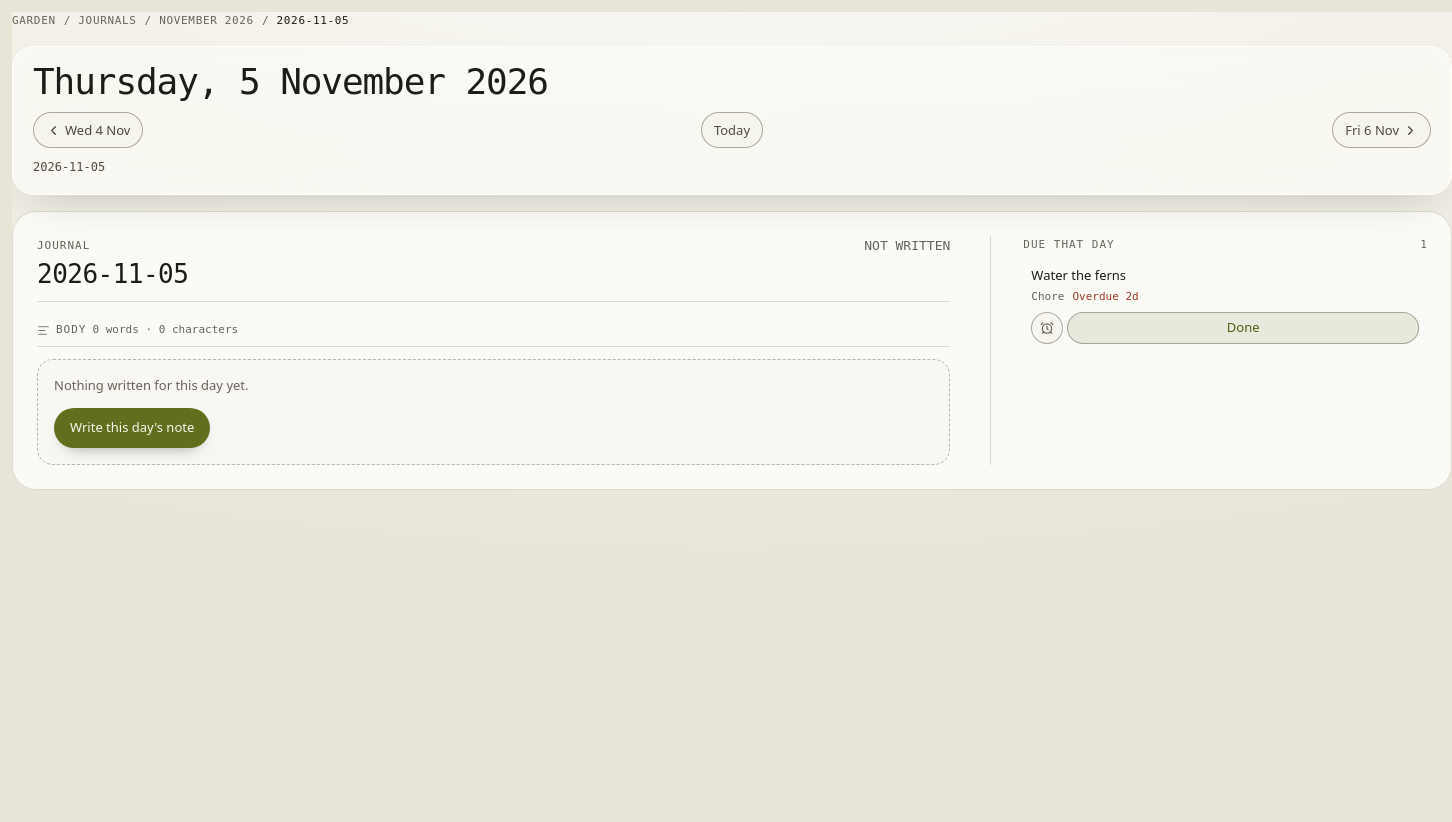
Test case: DailyDayPage › completes a due row from the day card
The image size is (1452, 822).
What coordinates should you click on to do the following:
click the button with aria-label "Done Water the ferns"
I would click on:
 (1243, 328)
Its box is [1067,312,1419,344].
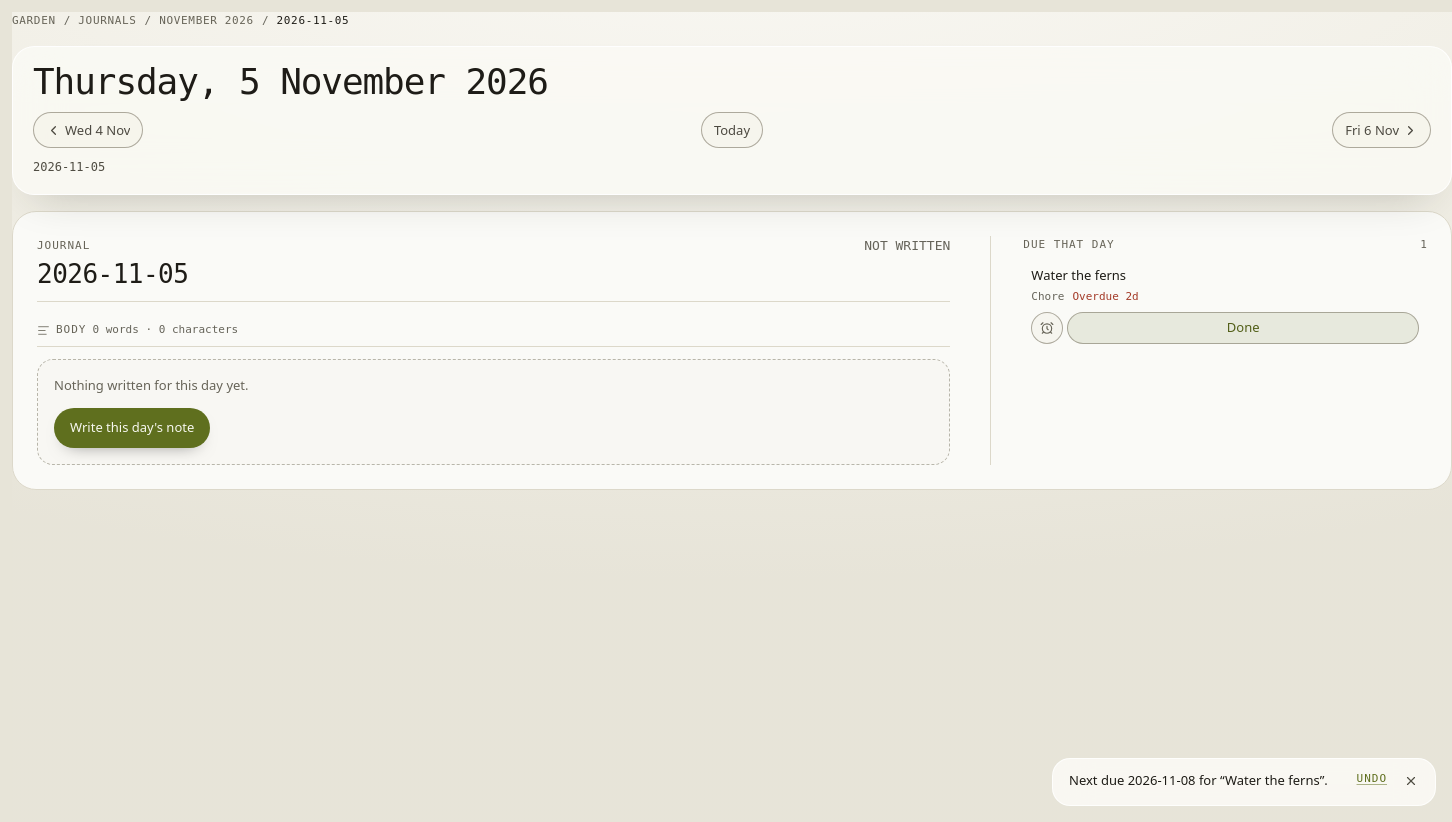
Now the text "Next due 2026-11-08 for “Water the ferns”." is shown, box [1069,771,1344,790]
